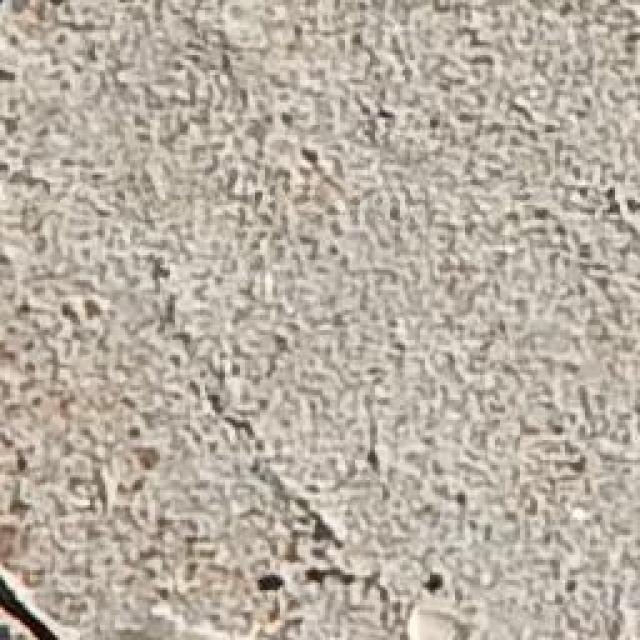concrete-crack: (0, 563, 72, 640)
